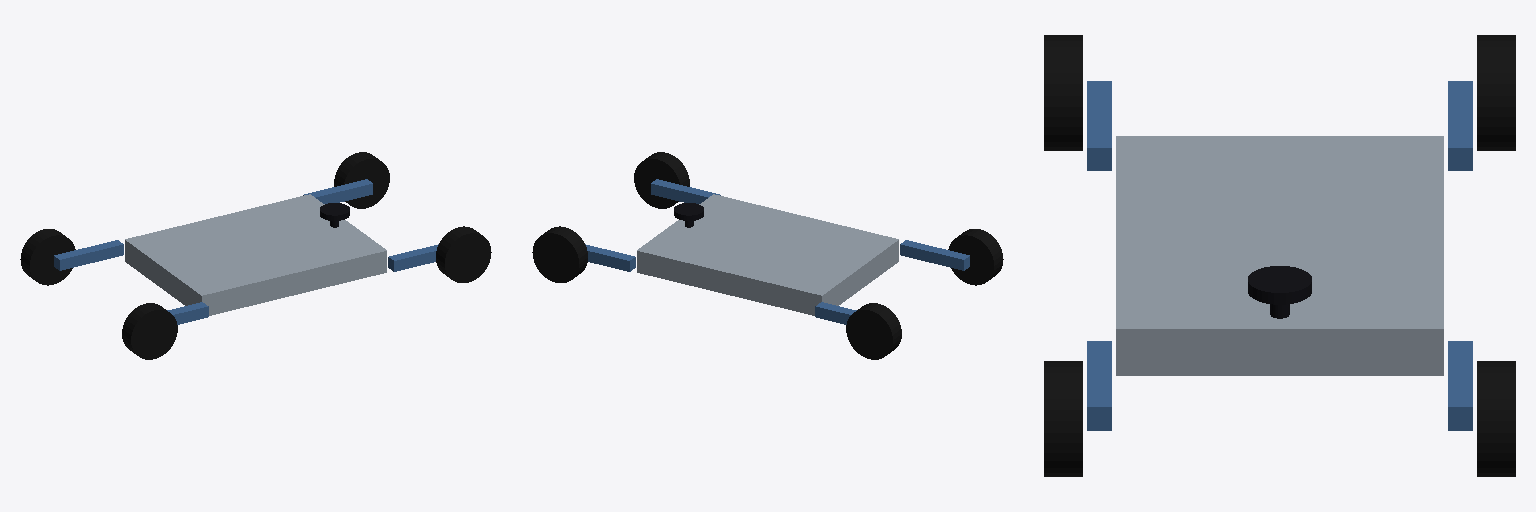
The robot description file, URDF, robot "embr_mock":
<?xml version="1.0"?>
<!--
  EMBR mock bot, primitive shapes only.

  Chassis: a box with the footprint of the mock bot plate in PR 88
  (0.706 m x 0.508 m). Four arms: boxes hinged at the chassis corners, each
  carrying its drive cylinder at the far end. At 0 rad an arm is level and
  the cylinders sit at the PR 88 wheelbase (1.192 m). Each arm swings 90
  degrees up or down. Height, pitch, and roll come from the four arm angles.

  Frame: +X forward, +Y left, +Z up. `root` is the chassis centre, on the
  arm hinge line. Arm joints: positive is the cylinder going up.
  Masses, limits, and efforts are ASSUMED. The sim adds the free joint,
  sensor sites, and actuators (urdf_model.py).
-->
<robot name="embr_mock">
  <mujoco>
    <compiler discardvisual="false" angle="radian"/>
  </mujoco>

  <material name="chassis"><color rgba="0.62 0.66 0.70 1"/></material>
  <material name="arm"><color rgba="0.30 0.45 0.62 1"/></material>
  <material name="wheel"><color rgba="0.12 0.12 0.12 1"/></material>
  <material name="sensor"><color rgba="0.10 0.10 0.12 1"/></material>
  <material name="probe"><color rgba="0.15 0.85 0.35 1"/></material>

  <!-- MARK: Chassis -->
  <link name="root">
    <inertial>
      <mass value="4.0"/>
      <inertia ixx="0.0881" iyy="0.1683" izz="0.2522" ixy="0" ixz="0" iyz="0"/>
    </inertial>
    <collision name="chassis">
      <geometry><box size="0.706 0.508 0.08"/></geometry>
    </collision>
    <visual name="chassis_vis">
      <geometry><box size="0.706 0.508 0.08"/></geometry>
      <material name="chassis"/>
    </visual>
    <!-- Lidar mast at the front-centre. The scan origin (sim site) is just above the puck. -->
    <visual name="lidar_mast">
      <origin xyz="0.30 0 0.07"/>
      <geometry><cylinder radius="0.015" length="0.06"/></geometry>
      <material name="sensor"/>
    </visual>
    <visual name="lidar_puck">
      <origin xyz="0.30 0 0.09"/>
      <geometry><cylinder radius="0.05" length="0.02"/></geometry>
      <material name="sensor"/>
    </visual>
  </link>

  <!-- MARK: Arms. Hinge at the chassis corner, box out to the cylinder. -->
  <link name="arm_front_left">
    <inertial><origin xyz="0.1215 0 0"/><mass value="0.10"/><inertia ixx="3e-5" iyy="5e-4" izz="5e-4" ixy="0" ixz="0" iyz="0"/></inertial>
    <visual name="arm_front_left"><origin xyz="0.1215 0 0"/><geometry><box size="0.243 0.04 0.04"/></geometry><material name="arm"/></visual>
  </link>
  <link name="arm_front_right">
    <inertial><origin xyz="0.1215 0 0"/><mass value="0.10"/><inertia ixx="3e-5" iyy="5e-4" izz="5e-4" ixy="0" ixz="0" iyz="0"/></inertial>
    <visual name="arm_front_right"><origin xyz="0.1215 0 0"/><geometry><box size="0.243 0.04 0.04"/></geometry><material name="arm"/></visual>
  </link>
  <link name="arm_rear_left">
    <inertial><origin xyz="-0.1215 0 0"/><mass value="0.10"/><inertia ixx="3e-5" iyy="5e-4" izz="5e-4" ixy="0" ixz="0" iyz="0"/></inertial>
    <visual name="arm_rear_left"><origin xyz="-0.1215 0 0"/><geometry><box size="0.243 0.04 0.04"/></geometry><material name="arm"/></visual>
  </link>
  <link name="arm_rear_right">
    <inertial><origin xyz="-0.1215 0 0"/><mass value="0.10"/><inertia ixx="3e-5" iyy="5e-4" izz="5e-4" ixy="0" ixz="0" iyz="0"/></inertial>
    <visual name="arm_rear_right"><origin xyz="-0.1215 0 0"/><geometry><box size="0.243 0.04 0.04"/></geometry><material name="arm"/></visual>
  </link>

  <!-- Front arms point +X, so axis -Y lifts the cylinder for a positive angle. Rear arms use +Y. -->
  <joint name="arm_front_left" type="revolute">
    <parent link="root"/><child link="arm_front_left"/>
    <origin xyz="0.353 0.279 0"/><axis xyz="0 -1 0"/>
    <limit lower="-1.5708" upper="1.5708" effort="30" velocity="1.5"/>
    <dynamics damping="0.5"/>
  </joint>
  <joint name="arm_front_right" type="revolute">
    <parent link="root"/><child link="arm_front_right"/>
    <origin xyz="0.353 -0.279 0"/><axis xyz="0 -1 0"/>
    <limit lower="-1.5708" upper="1.5708" effort="30" velocity="1.5"/>
    <dynamics damping="0.5"/>
  </joint>
  <joint name="arm_rear_left" type="revolute">
    <parent link="root"/><child link="arm_rear_left"/>
    <origin xyz="-0.353 0.279 0"/><axis xyz="0 1 0"/>
    <limit lower="-1.5708" upper="1.5708" effort="30" velocity="1.5"/>
    <dynamics damping="0.5"/>
  </joint>
  <joint name="arm_rear_right" type="revolute">
    <parent link="root"/><child link="arm_rear_right"/>
    <origin xyz="-0.353 -0.279 0"/><axis xyz="0 1 0"/>
    <limit lower="-1.5708" upper="1.5708" effort="30" velocity="1.5"/>
    <dynamics damping="0.5"/>
  </joint>

  <!-- MARK: Drive cylinders at the arm tips. Joint names match the drivetrain. -->
  <link name="front_left">
    <inertial><mass value="0.05"/><inertia ixx="1.14e-4" iyy="1.98e-4" izz="1.14e-4" ixy="0" ixz="0" iyz="0"/></inertial>
    <collision name="front_left"><origin rpy="1.5708 0 0"/><geometry><cylinder radius="0.089" length="0.06"/></geometry></collision>
    <visual name="front_left_vis"><origin rpy="1.5708 0 0"/><geometry><cylinder radius="0.089" length="0.06"/></geometry><material name="wheel"/></visual>
  </link>
  <link name="front_right">
    <inertial><mass value="0.05"/><inertia ixx="1.14e-4" iyy="1.98e-4" izz="1.14e-4" ixy="0" ixz="0" iyz="0"/></inertial>
    <collision name="front_right"><origin rpy="1.5708 0 0"/><geometry><cylinder radius="0.089" length="0.06"/></geometry></collision>
    <visual name="front_right_vis"><origin rpy="1.5708 0 0"/><geometry><cylinder radius="0.089" length="0.06"/></geometry><material name="wheel"/></visual>
  </link>
  <link name="rear_left">
    <inertial><mass value="0.05"/><inertia ixx="1.14e-4" iyy="1.98e-4" izz="1.14e-4" ixy="0" ixz="0" iyz="0"/></inertial>
    <collision name="rear_left"><origin rpy="1.5708 0 0"/><geometry><cylinder radius="0.089" length="0.06"/></geometry></collision>
    <visual name="rear_left_vis"><origin rpy="1.5708 0 0"/><geometry><cylinder radius="0.089" length="0.06"/></geometry><material name="wheel"/></visual>
  </link>
  <link name="rear_right">
    <inertial><mass value="0.05"/><inertia ixx="1.14e-4" iyy="1.98e-4" izz="1.14e-4" ixy="0" ixz="0" iyz="0"/></inertial>
    <collision name="rear_right"><origin rpy="1.5708 0 0"/><geometry><cylinder radius="0.089" length="0.06"/></geometry></collision>
    <visual name="rear_right_vis"><origin rpy="1.5708 0 0"/><geometry><cylinder radius="0.089" length="0.06"/></geometry><material name="wheel"/></visual>
  </link>

  <!-- The cylinder sits just outboard of its arm. -->
  <joint name="front_left_maxon" type="continuous">
    <parent link="arm_front_left"/><child link="front_left"/>
    <origin xyz="0.243 0.055 0"/><axis xyz="0 1 0"/>
  </joint>
  <joint name="front_right_maxon" type="continuous">
    <parent link="arm_front_right"/><child link="front_right"/>
    <origin xyz="0.243 -0.055 0"/><axis xyz="0 1 0"/>
  </joint>
  <joint name="rear_left_maxon" type="continuous">
    <parent link="arm_rear_left"/><child link="rear_left"/>
    <origin xyz="-0.243 0.055 0"/><axis xyz="0 1 0"/>
  </joint>
  <joint name="rear_right_maxon" type="continuous">
    <parent link="arm_rear_right"/><child link="rear_right"/>
    <origin xyz="-0.243 -0.055 0"/><axis xyz="0 1 0"/>
  </joint>

  <!-- MARK: Thermal probe. The mission's probe machine drives this hinge. -->
  <link name="probe">
    <inertial><origin xyz="0.02 0 0"/><mass value="0.02"/><inertia ixx="1e-6" iyy="1e-6" izz="1e-6" ixy="0" ixz="0" iyz="0"/></inertial>
    <visual name="probe_boom"><origin xyz="0.02 0 0" rpy="0 1.5708 0"/><geometry><cylinder radius="0.004" length="0.04"/></geometry><material name="probe"/></visual>
  </link>
  <joint name="probe_hinge" type="revolute">
    <parent link="root"/><child link="probe"/>
    <origin xyz="-0.112 0 -0.04"/><axis xyz="0 1 0"/>
    <limit lower="0" upper="1.2" effort="2" velocity="2.0"/>
    <dynamics damping="0.02"/>
  </joint>
</robot>

--- What the picture shows (computed from the rendered views, not written in the file) ---
The picture shows the robot from 3 angles, left to right: view 1: azimuth 30°, elevation 25°; view 2: azimuth 150°, elevation 25°; view 3: azimuth 270°, elevation 25°; orthographic projection.
Model embr_mock with 10 links and 9 joints (5 revolute, 4 continuous), rooted at root, posed every joint at zero.
Visible links, largest first — view 1: root, rear_right, front_right, rear_left, front_left, arm_rear_left, arm_front_left, arm_front_right, arm_rear_right; view 2: root, rear_left, front_left, rear_right, front_right, arm_rear_right, arm_front_right, arm_front_left, arm_rear_left; view 3: root, front_left, front_right, rear_left, rear_right, arm_front_left, arm_front_right, arm_rear_left, arm_rear_right.
Link boxes in pixels (bbox=[...]): root: bbox=[125, 194, 386, 315]; rear_right: bbox=[122, 303, 177, 359]; front_right: bbox=[436, 226, 491, 282]; rear_left: bbox=[20, 229, 75, 285]; front_left: bbox=[334, 152, 389, 208]; arm_rear_left: bbox=[54, 240, 123, 270]; arm_front_left: bbox=[303, 179, 372, 203]; arm_front_right: bbox=[388, 244, 438, 271]; arm_rear_right: bbox=[167, 302, 208, 324]; root: bbox=[637, 194, 898, 315]; rear_left: bbox=[846, 303, 901, 359]; front_left: bbox=[532, 226, 587, 282]; rear_right: bbox=[948, 229, 1003, 285]; front_right: bbox=[634, 152, 689, 208]; arm_rear_right: bbox=[900, 240, 969, 270]; arm_front_right: bbox=[651, 179, 720, 203]; arm_front_left: bbox=[585, 244, 635, 271]; arm_rear_left: bbox=[815, 302, 856, 324]; root: bbox=[1116, 136, 1443, 375]; front_left: bbox=[1477, 361, 1515, 476]; front_right: bbox=[1044, 361, 1082, 476]; rear_left: bbox=[1477, 35, 1515, 150]; rear_right: bbox=[1044, 35, 1082, 150]; arm_front_left: bbox=[1448, 341, 1472, 430]; arm_front_right: bbox=[1087, 341, 1111, 430]; arm_rear_left: bbox=[1448, 81, 1472, 170]; arm_rear_right: bbox=[1087, 81, 1111, 170].
Bounding box of the posed robot: 1.37 × 0.728 × 0.189 m (x, y, z).
Geometry: primitives only (box / cylinder / sphere), no mesh files.
